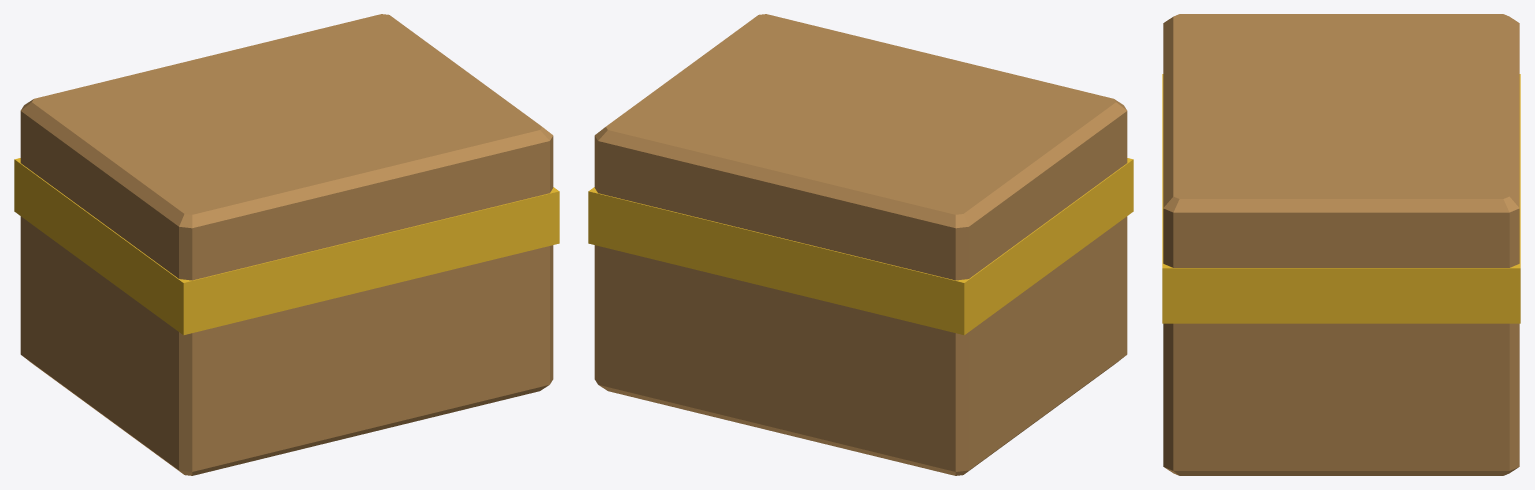
Rendered from paint_case.glb.
3 views of the same model, side by side, from view 1: azimuth 30°, elevation 25°; view 2: azimuth 150°, elevation 25°; view 3: azimuth 270°, elevation 25° (orthographic). The views are drawn at different scales.
Visible parts, largest first — view 1: paint_case; view 2: paint_case; view 3: paint_case.
Boxes of the visible parts, x1,y1,x2,y2 form: paint_case: (14, 14, 559, 475); paint_case: (588, 14, 1133, 475); paint_case: (1162, 14, 1520, 475).
Bounding box in the file's own units: 0.452 × 0.3 × 0.352.
